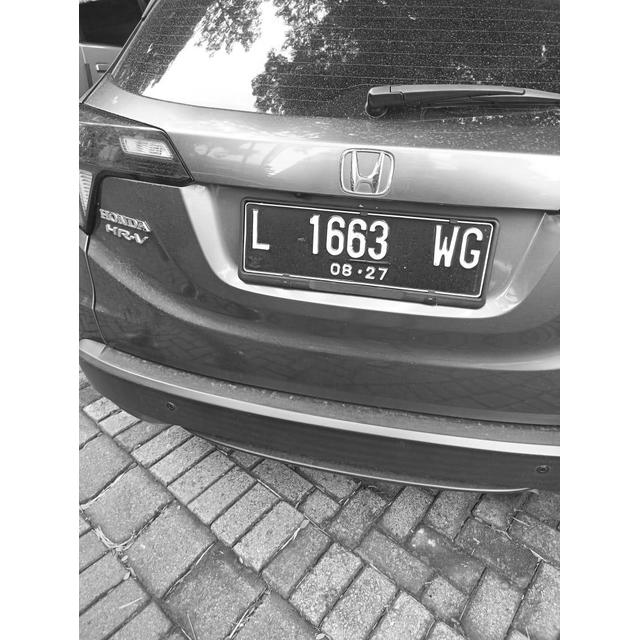license: (248, 206, 487, 284)
